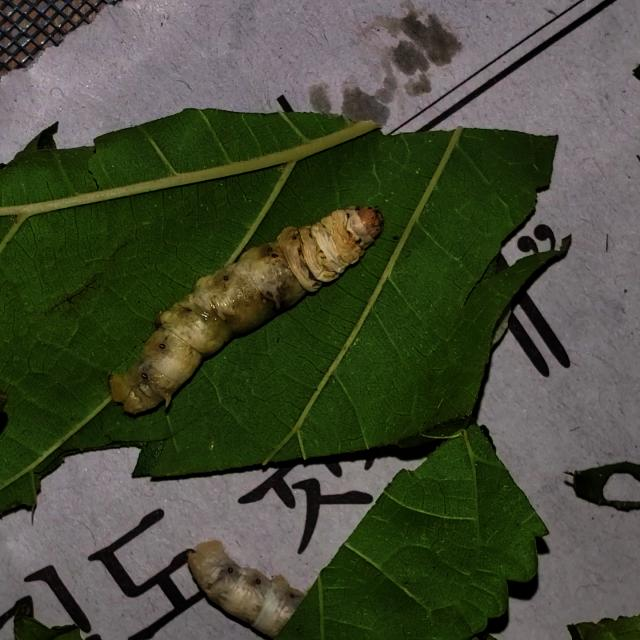Grasserie: (80, 181, 440, 436)
